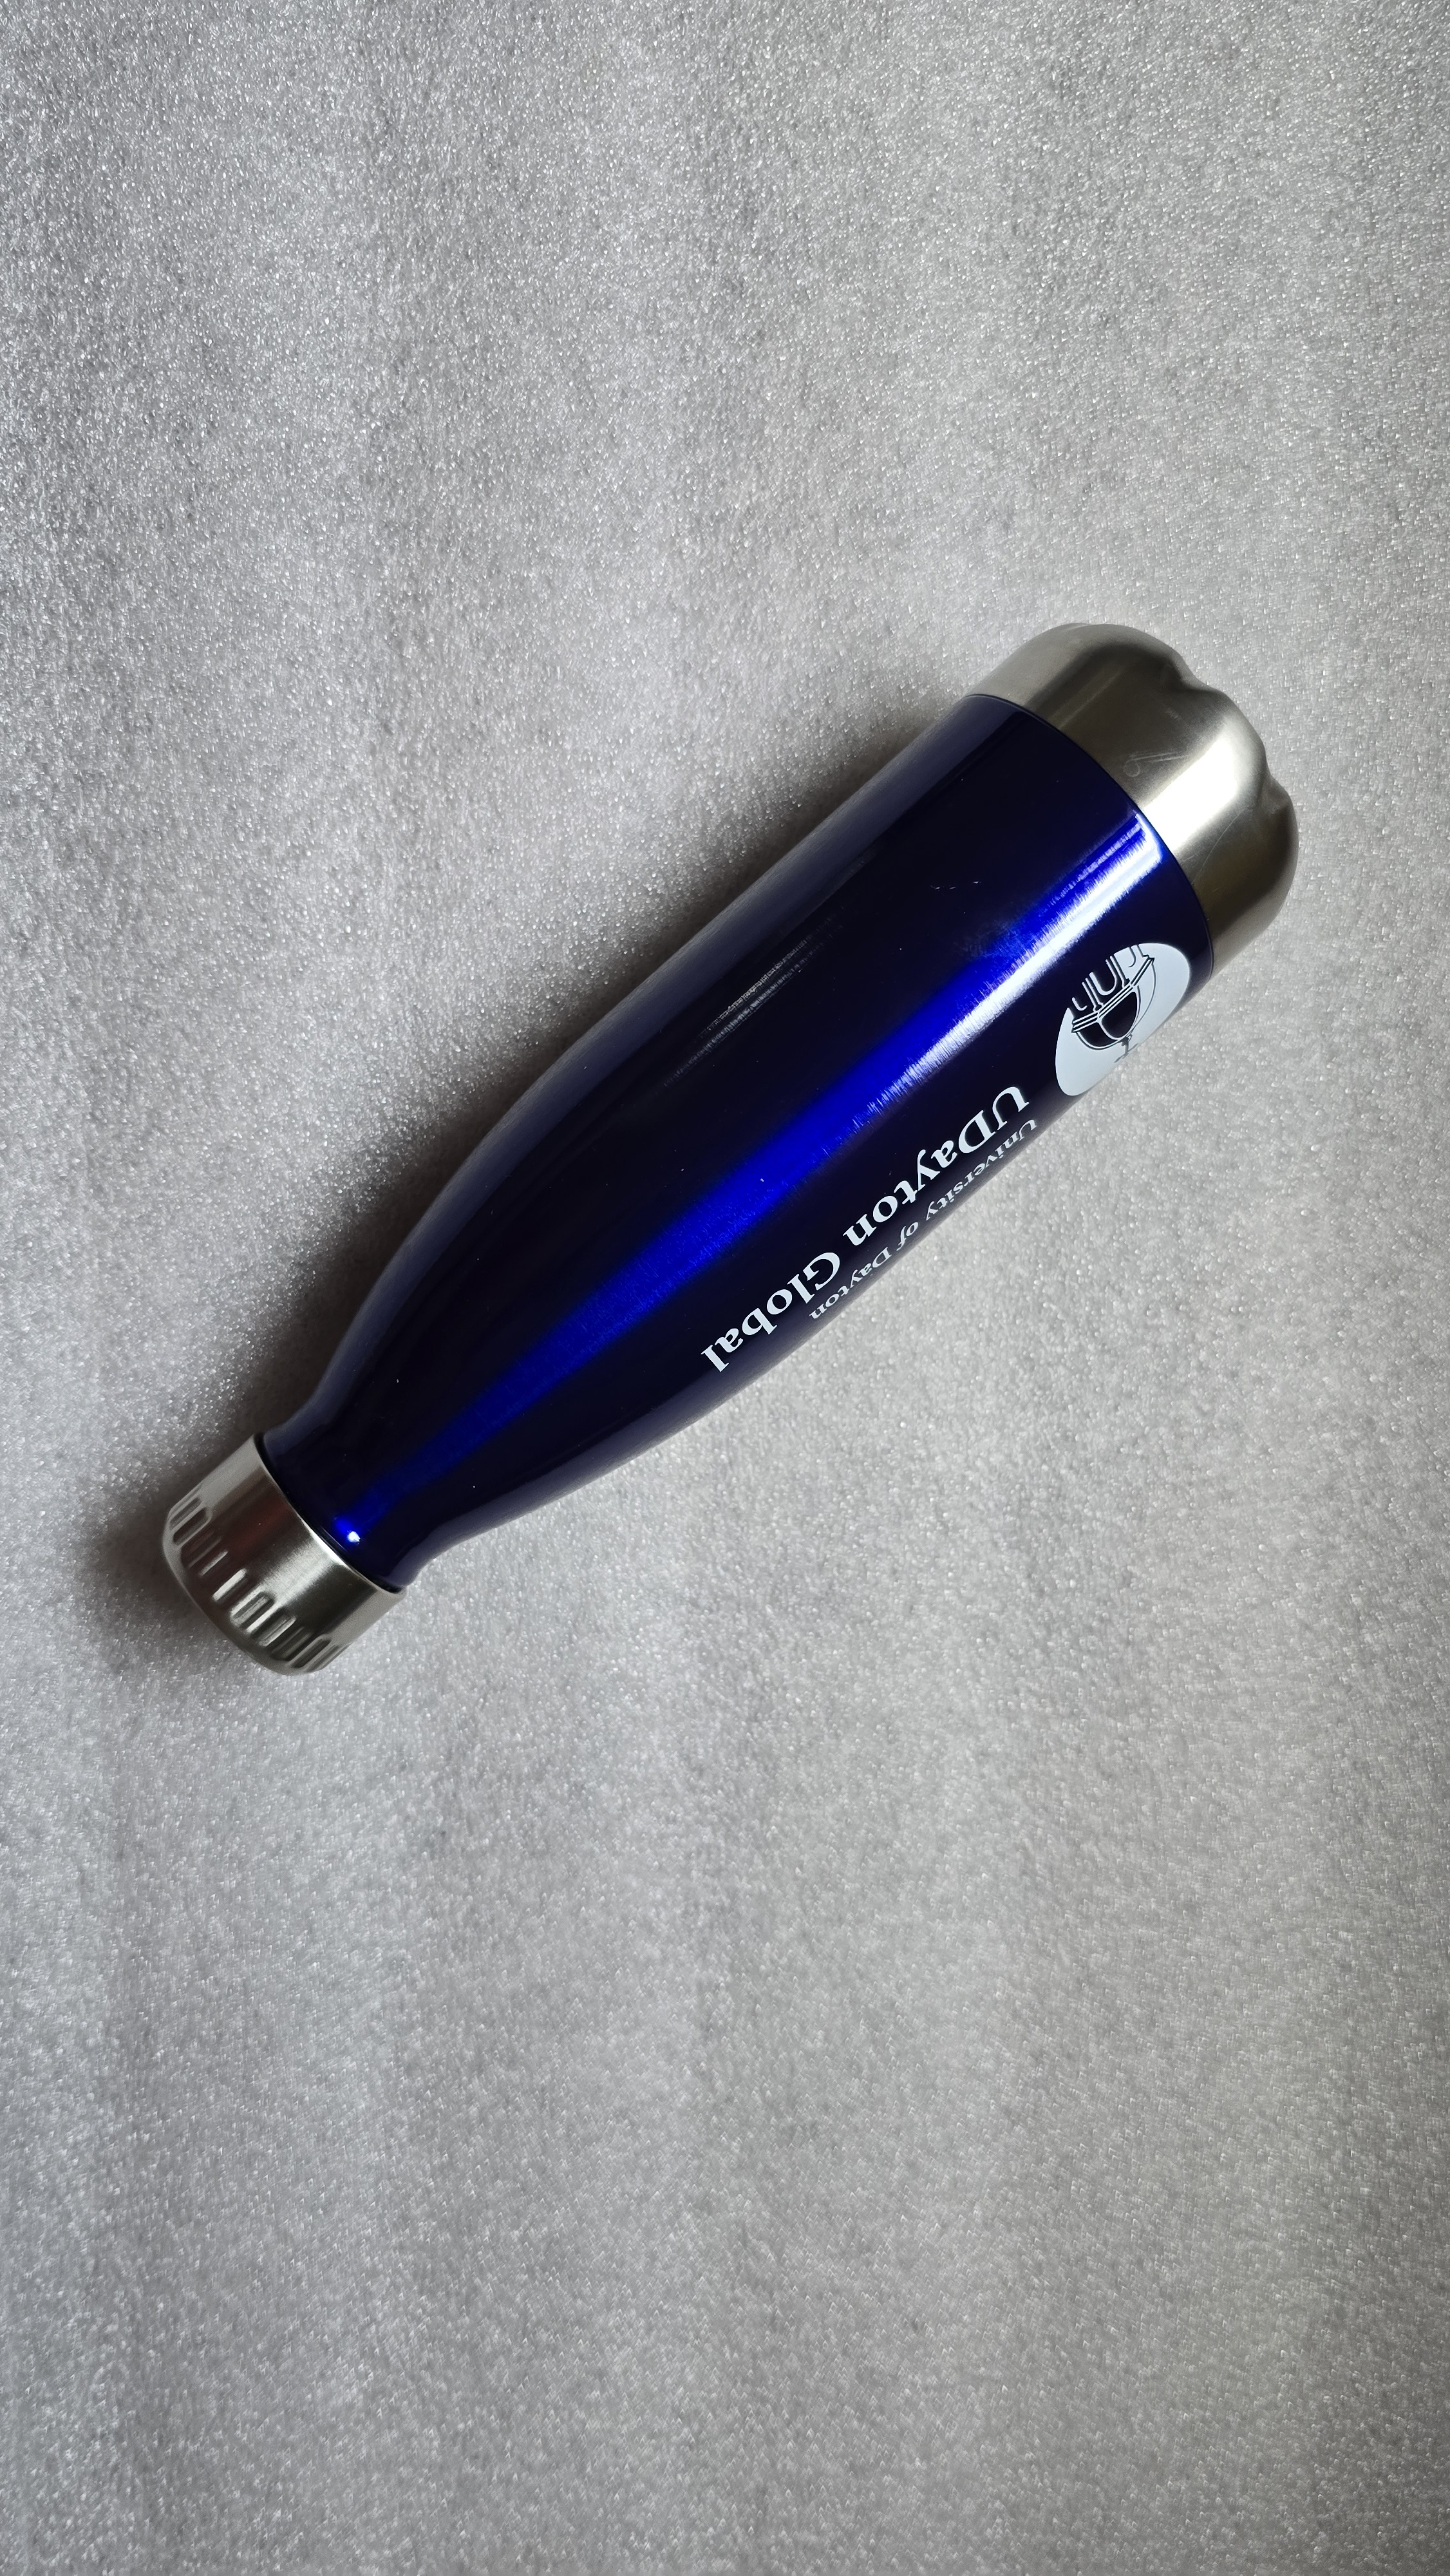bottle: (95, 534, 1360, 1693)
